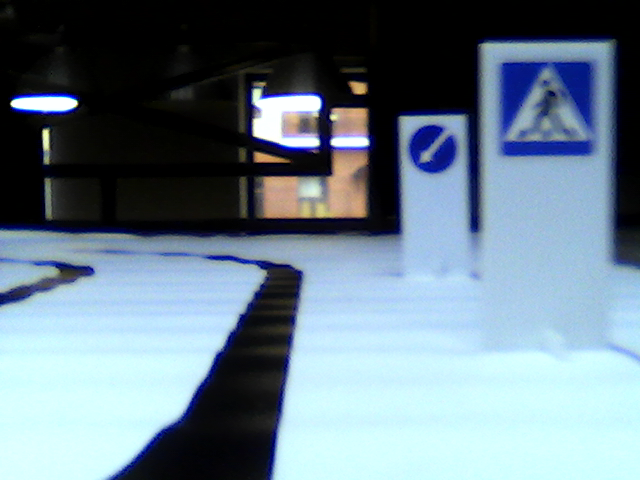pesh: (498, 60, 600, 161)
prep: (407, 125, 456, 172)
